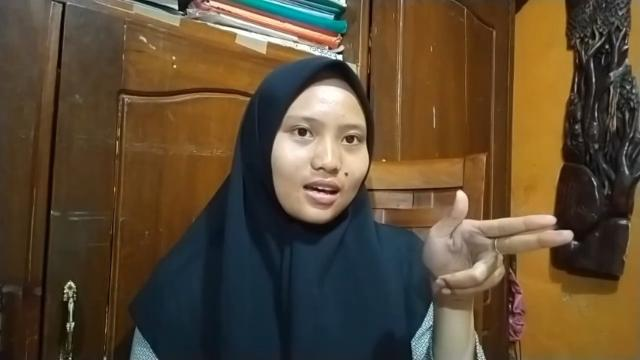H: (416, 188, 578, 302)
